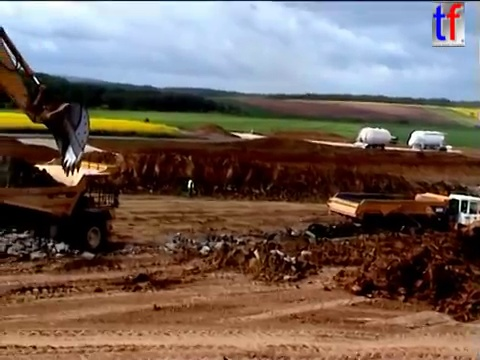excavator: (1, 22, 93, 180)
truck: (1, 154, 122, 257), (324, 187, 480, 245), (406, 127, 455, 155), (352, 125, 401, 152)
worker: (184, 177, 198, 200)
